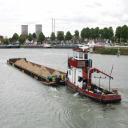tugboat: (65, 45, 124, 106)
